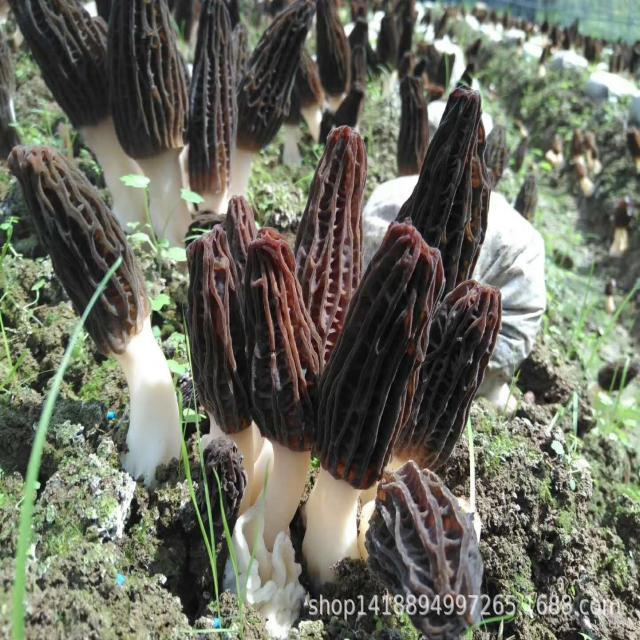Morchella esculenta: (11, 135, 184, 481), (305, 224, 442, 590), (12, 0, 141, 222), (238, 223, 320, 557), (365, 458, 486, 631), (184, 220, 261, 489), (107, 4, 192, 246), (292, 117, 367, 357), (188, 2, 239, 218)
